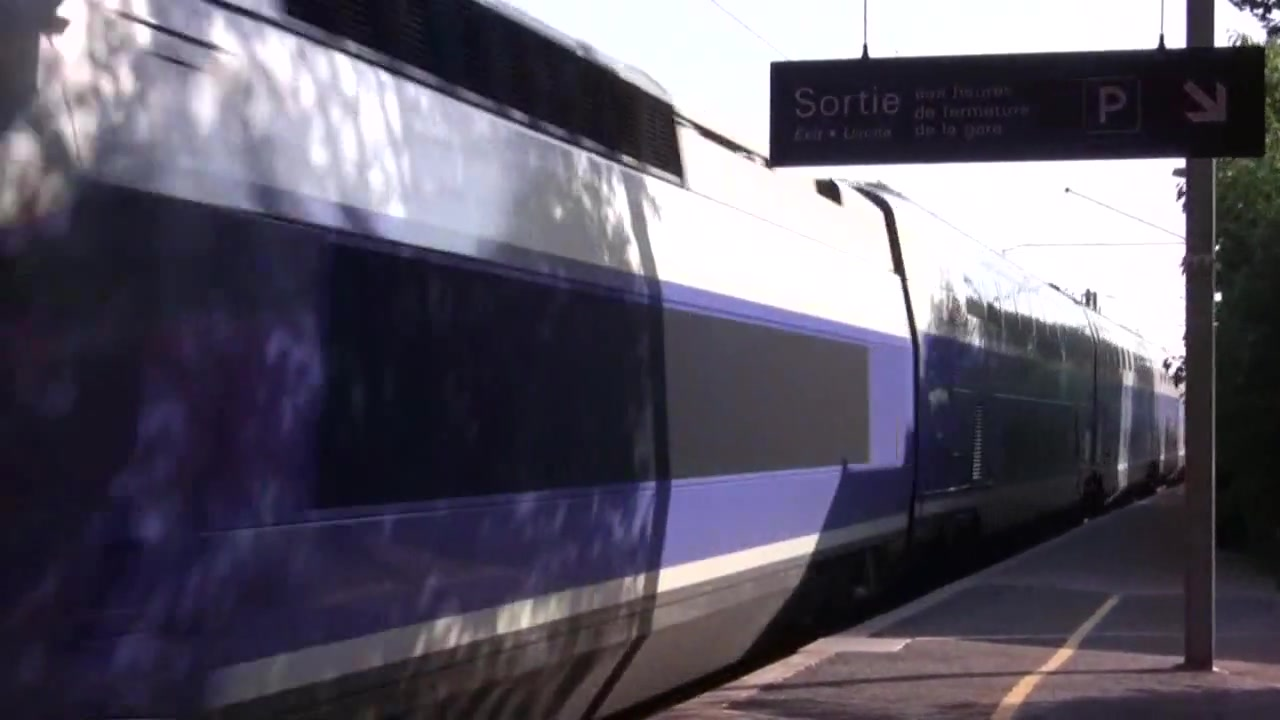train: (1, 1, 1188, 720)
